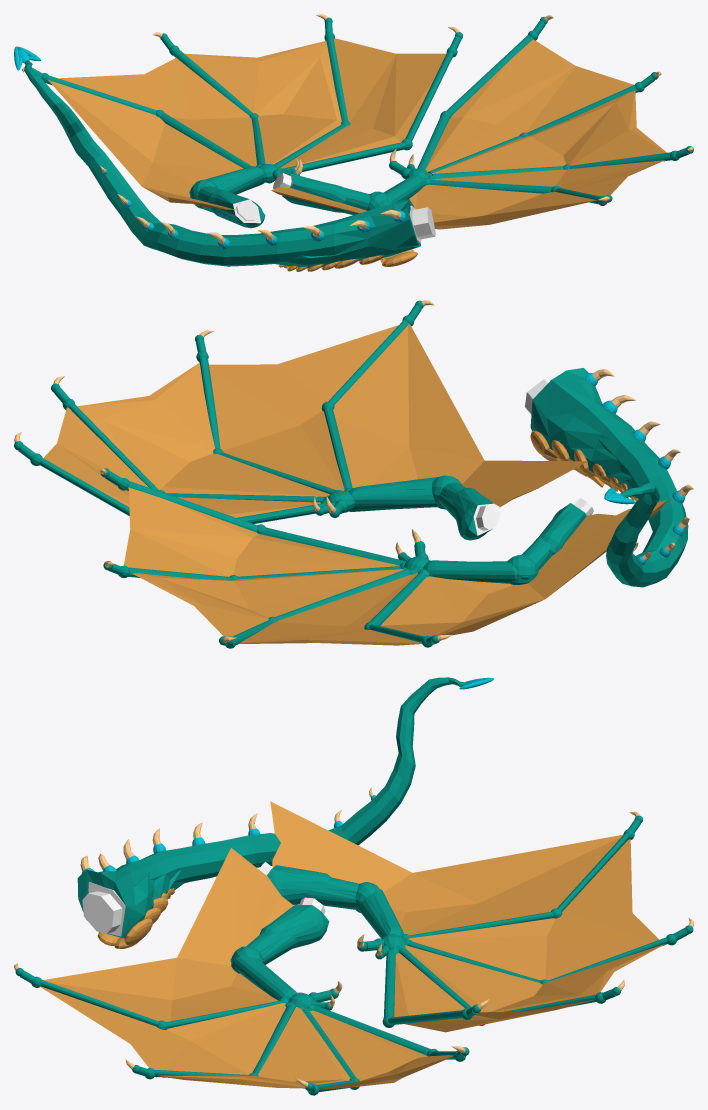
Rendered from other-wing-and-tail-293.glb.
The picture shows the model from 3 angles, top to bottom: view 1: azimuth 30°, elevation 25°; view 2: azimuth 150°, elevation 25°; view 3: azimuth 270°, elevation 25°; orthographic projection. The views are drawn at different scales.
Parts seen in each view (by area): view 1: group164912198, group2127402131, group1726035521; view 2: group2127402131, group164912198, group1726035521; view 3: group164912198, group2127402131, group1726035521.
Boxes of the visible parts, x1,y1,x2,y2 form: group164912198: [22, 14, 462, 228]; group2127402131: [271, 15, 693, 229]; group1726035521: [14, 46, 435, 271]; group2127402131: [14, 300, 587, 540]; group164912198: [100, 468, 666, 648]; group1726035521: [525, 368, 693, 587]; group164912198: [259, 801, 693, 1032]; group2127402131: [14, 848, 469, 1095]; group1726035521: [77, 677, 493, 948].
Size of the model in its own units: 3.55 by 0.9492 by 3.34.
